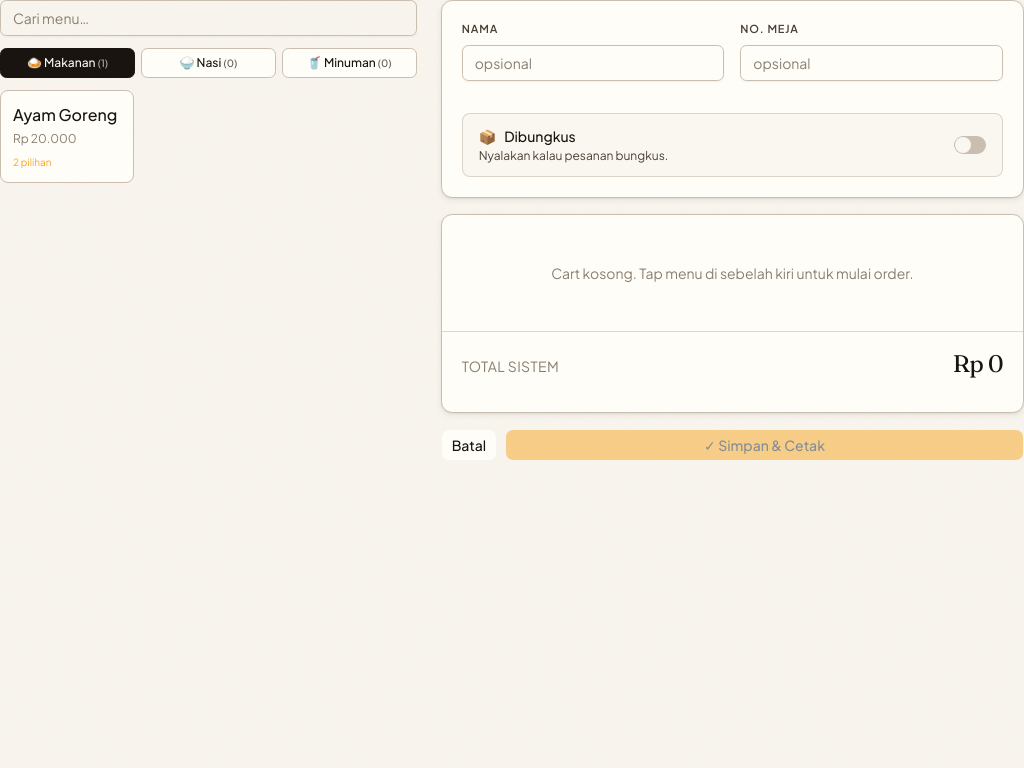
Test: <PosClient /> — umpan balik tap › tidak menyalakan kartu bergrup mutex — modal konfigurasi yang terbuka
What coordinates should you click on to do the following:
click the button "Ayam Goreng Rp 20.000 2 pilihan"
I would click on:
 (67, 136)
Its box is [0, 90, 134, 183].
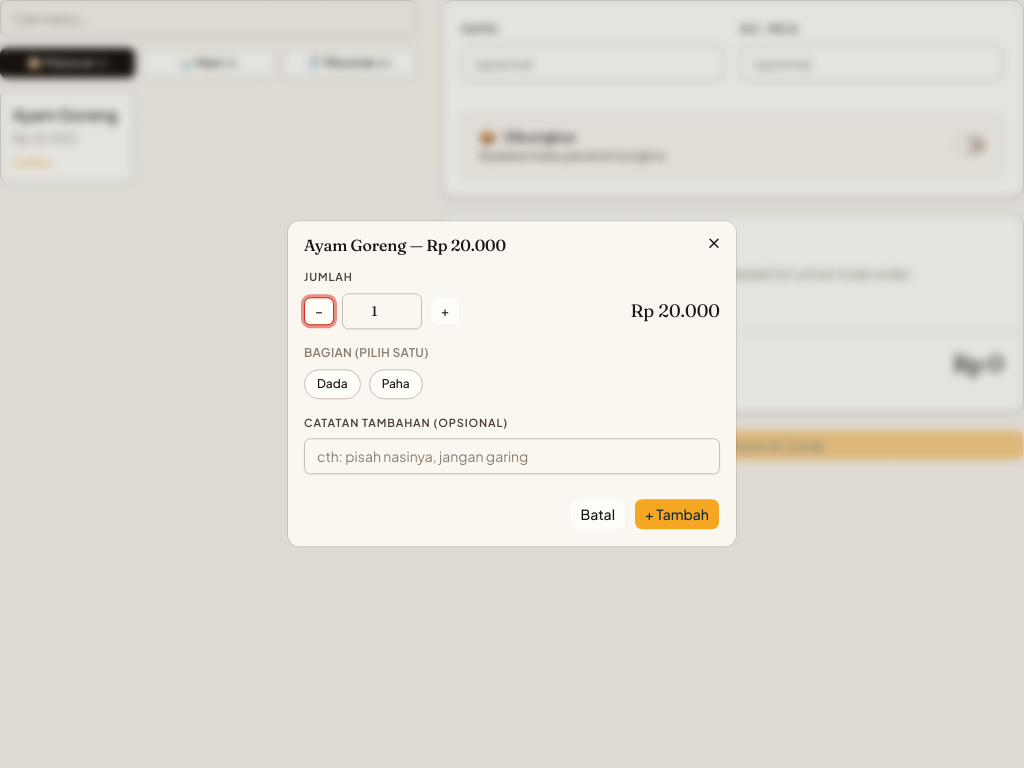
expect the dialog is shown: met, box [288, 221, 736, 547]
